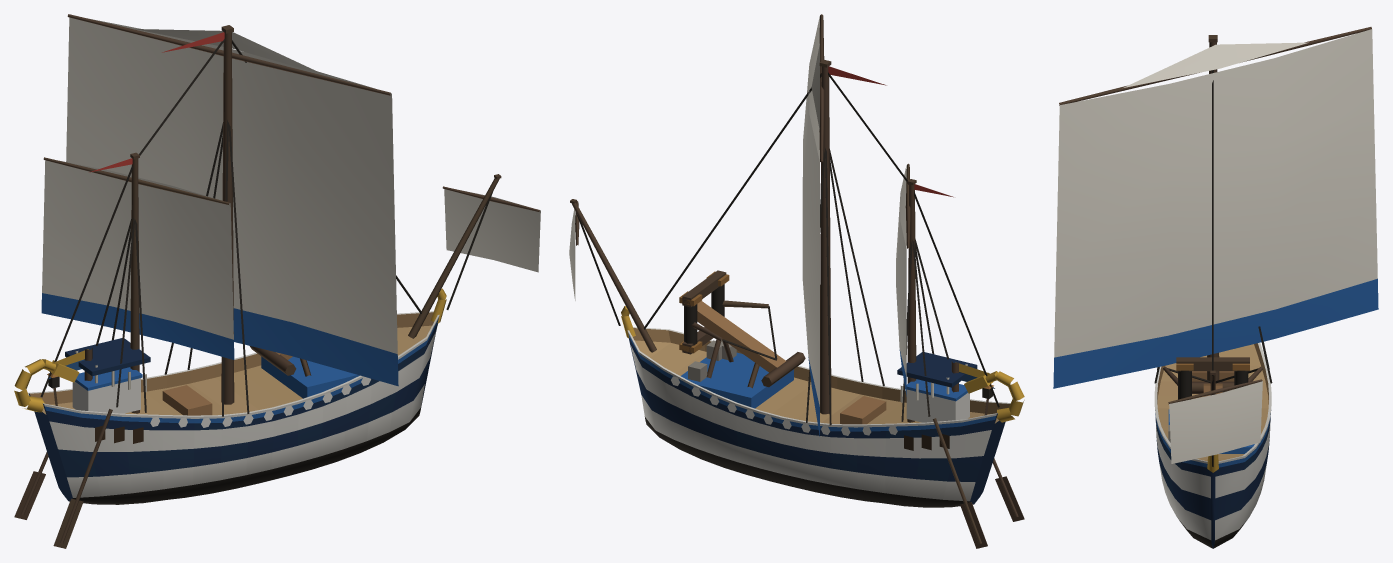
File: titan_usdc.glb
3 views of the same model, side by side, from view 1: azimuth 30°, elevation 25°; view 2: azimuth 150°, elevation 25°; view 3: azimuth 270°, elevation 25° (orthographic). The views are drawn at different scales.
Visible parts, largest first — view 1: sail_main, hull, sail_extra, deck, mast, rigging, yards, flag; view 2: hull, deck, rigging, mast, sail_main, sail_extra, yards, flag; view 3: sail_main, hull, deck, sail_extra, yards, rigging.
Boxes of the visible parts, left/top/right/bottom form: sail_main: left=66, top=17, right=540, bottom=386; hull: left=14, top=288, right=446, bottom=504; sail_extra: left=41, top=29, right=325, bottom=359; deck: left=14, top=338, right=359, bottom=548; mast: left=84, top=25, right=501, bottom=413; rigging: left=40, top=38, right=492, bottom=416; yards: left=43, top=14, right=539, bottom=211; flag: left=48, top=32, right=224, bottom=379; hull: left=621, top=306, right=1024, bottom=507; deck: left=679, top=270, right=1024, bottom=548; rigging: left=575, top=72, right=999, bottom=425; mast: left=570, top=59, right=958, bottom=422; sail_main: left=569, top=16, right=819, bottom=436; sail_extra: left=811, top=44, right=906, bottom=396; yards: left=575, top=14, right=910, bottom=248; flag: left=828, top=66, right=994, bottom=388; sail_main: left=1053, top=29, right=1378, bottom=463; hull: left=1154, top=342, right=1271, bottom=548; deck: left=1163, top=357, right=1263, bottom=453; sail_extra: left=1123, top=42, right=1308, bottom=87; yards: left=1059, top=27, right=1371, bottom=404; rigging: left=1154, top=70, right=1272, bottom=466.
Bounding box in the file's own units: 37.43 × 32.89 × 21.62.
